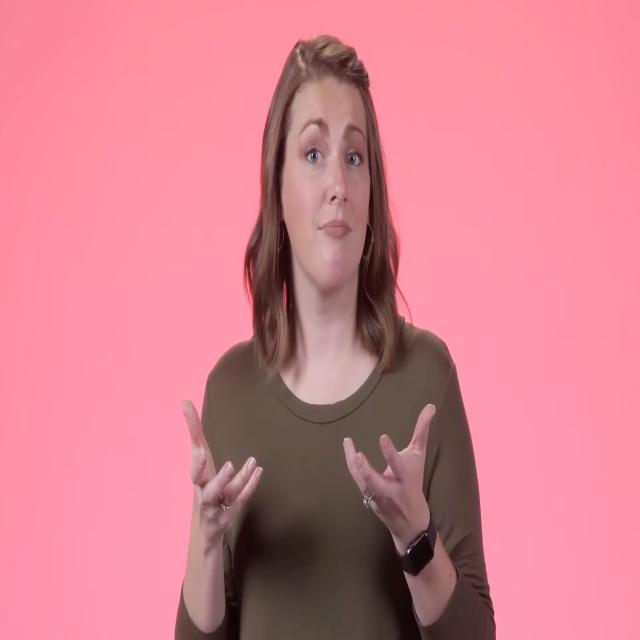want: (142, 376, 453, 546)
